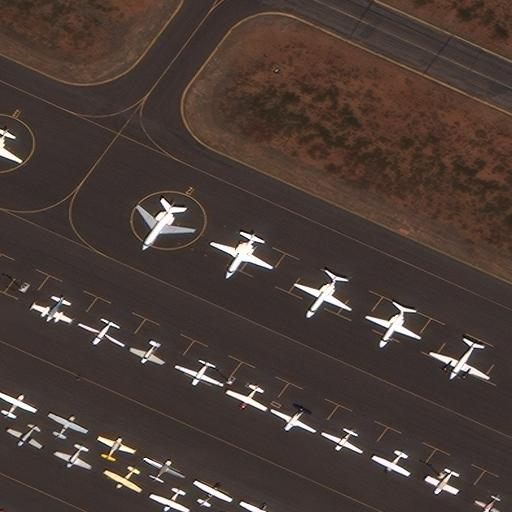Medium Civil Transport: (134, 202, 193, 250), (209, 233, 270, 277), (293, 275, 350, 317), (364, 307, 420, 347), (429, 342, 488, 379), (0, 129, 19, 165)
Small Civil Transport: (174, 362, 222, 387), (77, 321, 123, 347), (270, 407, 314, 433), (224, 385, 265, 412), (31, 297, 71, 324), (195, 479, 233, 506), (144, 457, 185, 482), (320, 430, 361, 454), (49, 412, 88, 437), (0, 391, 36, 418), (102, 467, 139, 493), (52, 445, 90, 470), (370, 452, 408, 477), (98, 435, 135, 460), (149, 488, 187, 512), (5, 425, 40, 449), (423, 470, 456, 495), (128, 341, 161, 365), (473, 495, 500, 512), (241, 500, 273, 512)
